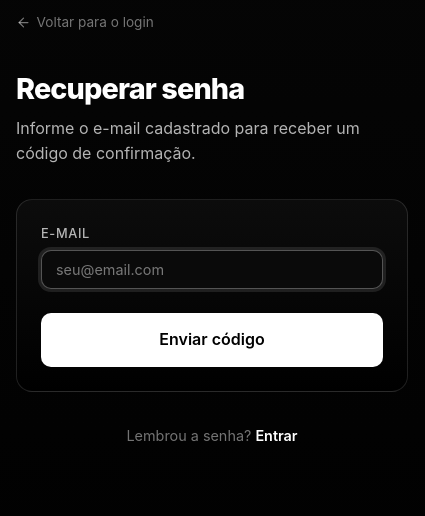
Test: ForgotPassword Page › shows an error and stays on the e-mail step when the request fails
Type "user@example.com" into the field labelled "E-mail". click: (212, 270)
box: [41,250,383,290]
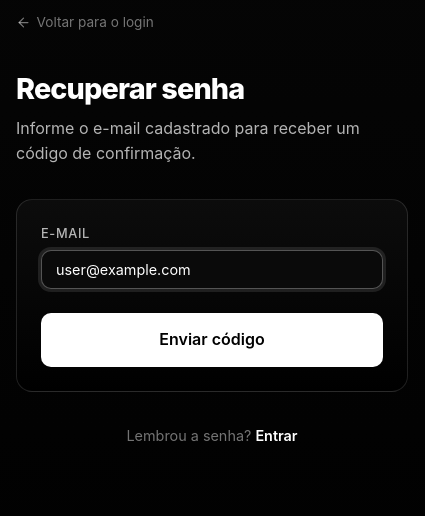
Click the button "Enviar código". click: (212, 340)
box: [41,314,383,367]
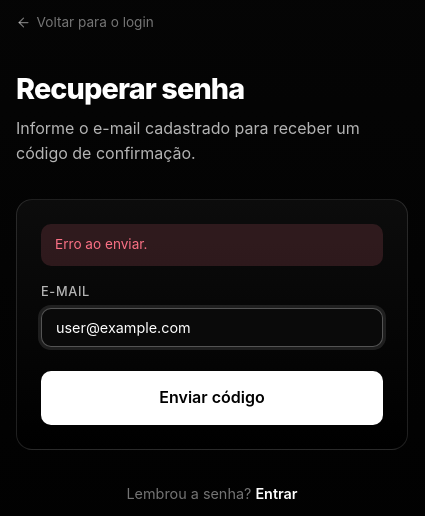
Check: the text "Erro ao enviar." is shown, box [41,224,383,266]
